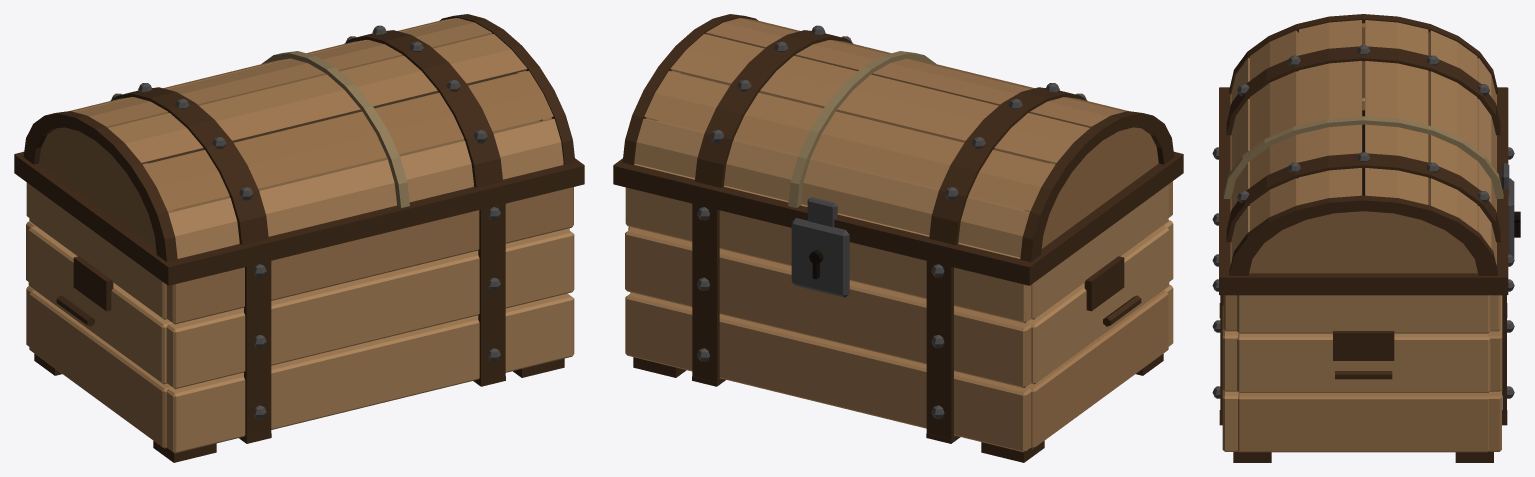
Rendered from chest_wood.glb.
3 renders of one model, left to right at view 1: azimuth 30°, elevation 25°; view 2: azimuth 150°, elevation 25°; view 3: azimuth 270°, elevation 25°, orthographic. The views are drawn at different scales.
Parts seen in each view (by area): view 1: Base, Lid; view 2: Base, Lid; view 3: Lid, Base.
Part boxes in pixels (x1,y1,x2,y2): Base: (14, 151, 584, 462); Lid: (23, 14, 575, 262); Base: (613, 151, 1183, 462); Lid: (622, 14, 1174, 262); Lid: (1223, 14, 1509, 275); Base: (1212, 87, 1520, 462).
Bounding box in the file's own units: 1.28 × 0.7912 × 0.803.
